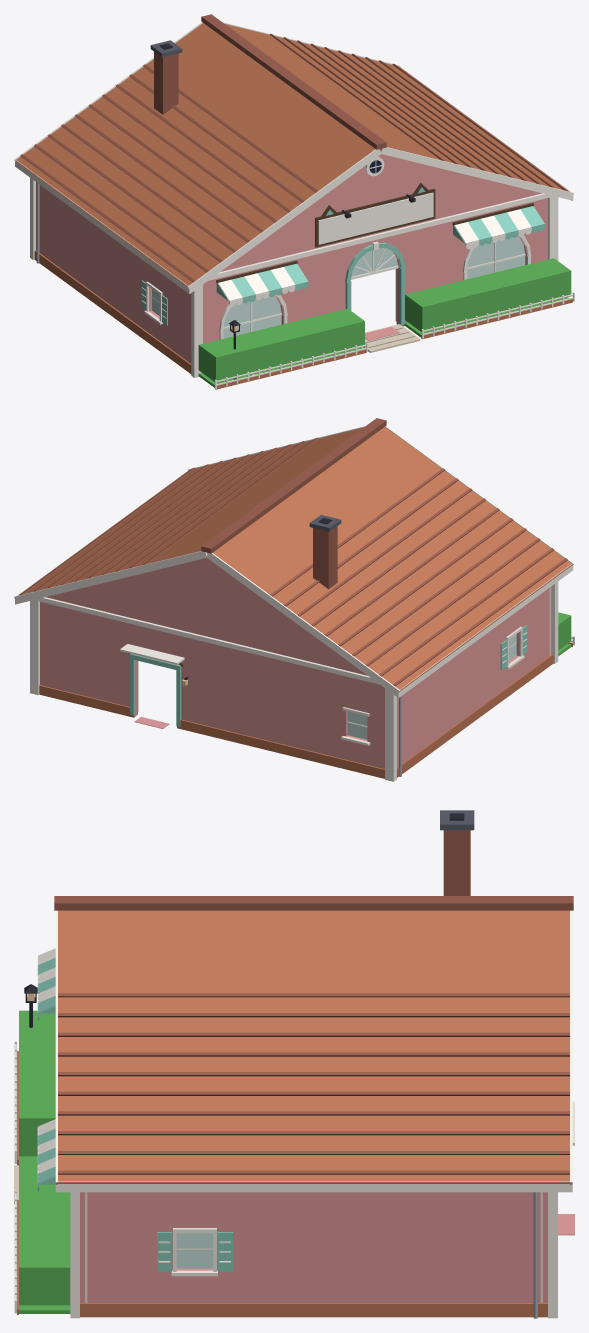
The model's file is CatCafe_Plot_Cafe_Blush_48x37.glb.
3 views of the same model, one above another, from view 1: azimuth 30°, elevation 25°; view 2: azimuth 150°, elevation 25°; view 3: azimuth 270°, elevation 25° (orthographic). The views are drawn at different scales.
Visible parts, largest first — view 1: CatCafe_Plot_Cafe_Blush_48x37_Roof, CatCafe_Plot_Cafe_Blush_48x37_Paint, CatCafe_Plot_Cafe_Blush_48x37_Fireflies, CatCafe_Plot_Cafe_Blush_48x37_Trim, CatCafe_Plot_Cafe_Blush_48x37_Roof_Trim, CatCafe_Plot_Cafe_Blush_48x37_Awning, CatCafe_Plot_Cafe_Blush_48x37_Glass, CatCafe_Plot_Cafe_Blush_48x37, CatCafe_Plot_Cafe_Blush_48x37_Garden, CatCafe_Plot_Cafe_Blush_48x37_SignBoard, CatCafe_Plot_Cafe_Blush_48x37_Path, CatCafe_Plot_Cafe_Blush_48x37_Flowers; view 2: CatCafe_Plot_Cafe_Blush_48x37_Roof, CatCafe_Plot_Cafe_Blush_48x37_Paint, CatCafe_Plot_Cafe_Blush_48x37_Trim, CatCafe_Plot_Cafe_Blush_48x37_Roof_Trim, CatCafe_Plot_Cafe_Blush_48x37, CatCafe_Plot_Cafe_Blush_48x37_Glass; view 3: CatCafe_Plot_Cafe_Blush_48x37_Roof, CatCafe_Plot_Cafe_Blush_48x37_Paint, CatCafe_Plot_Cafe_Blush_48x37_Fireflies, CatCafe_Plot_Cafe_Blush_48x37, CatCafe_Plot_Cafe_Blush_48x37_Roof_Trim, CatCafe_Plot_Cafe_Blush_48x37_Trim, CatCafe_Plot_Cafe_Blush_48x37_Awning, CatCafe_Plot_Cafe_Blush_48x37_Garden, CatCafe_Plot_Cafe_Blush_48x37_Glass, CatCafe_Plot_Cafe_Blush_48x37_Wallpaper.
Part boxes in pixels (x1,y1,x2,y2): CatCafe_Plot_Cafe_Blush_48x37_Roof: (15,14,569,286); CatCafe_Plot_Cafe_Blush_48x37_Paint: (36,154,547,363); CatCafe_Plot_Cafe_Blush_48x37_Fireflies: (198,258,571,382); CatCafe_Plot_Cafe_Blush_48x37_Trim: (30,156,558,377); CatCafe_Plot_Cafe_Blush_48x37_Roof_Trim: (14,22,573,293); CatCafe_Plot_Cafe_Blush_48x37_Awning: (216,206,544,306); CatCafe_Plot_Cafe_Blush_48x37_Glass: (152,236,525,338); CatCafe_Plot_Cafe_Blush_48x37: (34,160,525,373); CatCafe_Plot_Cafe_Blush_48x37_Garden: (214,292,574,389); CatCafe_Plot_Cafe_Blush_48x37_SignBoard: (318,192,433,244); CatCafe_Plot_Cafe_Blush_48x37_Path: (363,324,420,352); CatCafe_Plot_Cafe_Blush_48x37_Flowers: (198,297,568,387); CatCafe_Plot_Cafe_Blush_48x37_Roof: (18,418,572,690); CatCafe_Plot_Cafe_Blush_48x37_Paint: (40,558,551,768); CatCafe_Plot_Cafe_Blush_48x37_Trim: (30,581,558,781); CatCafe_Plot_Cafe_Blush_48x37_Roof_Trim: (14,426,573,697); CatCafe_Plot_Cafe_Blush_48x37: (39,625,553,778); CatCafe_Plot_Cafe_Blush_48x37_Glass: (347,634,516,739); CatCafe_Plot_Cafe_Blush_48x37_Roof: (54,810,573,1183); CatCafe_Plot_Cafe_Blush_48x37_Paint: (80,1192,547,1302); CatCafe_Plot_Cafe_Blush_48x37_Fireflies: (19,1010,70,1305); CatCafe_Plot_Cafe_Blush_48x37: (80,1192,574,1318); CatCafe_Plot_Cafe_Blush_48x37_Roof_Trim: (55,910,572,1192); CatCafe_Plot_Cafe_Blush_48x37_Trim: (70,1101,574,1318); CatCafe_Plot_Cafe_Blush_48x37_Awning: (37,948,55,1191); CatCafe_Plot_Cafe_Blush_48x37_Garden: (14,984,37,1314); CatCafe_Plot_Cafe_Blush_48x37_Glass: (176,1233,213,1268); CatCafe_Plot_Cafe_Blush_48x37_Wallpaper: (85,1192,542,1302).
Size of the model in its own units: 53.86 by 28.2 by 45.8.
Materials: 1 (1 with a texture image).
